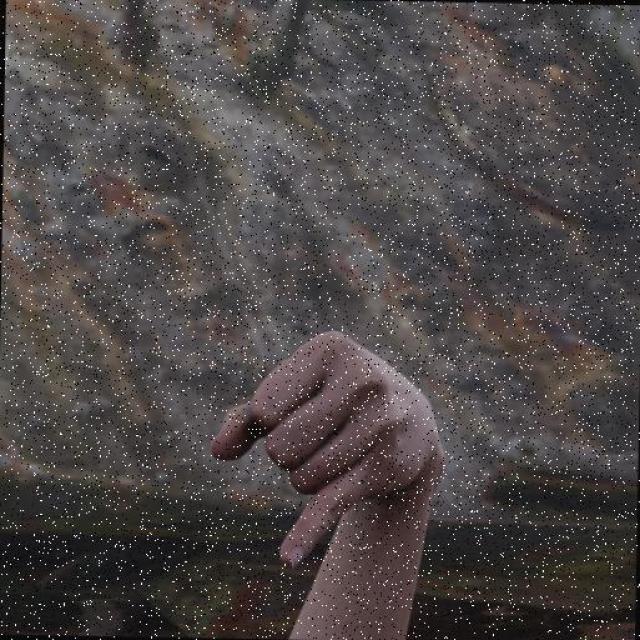J: (206, 325, 449, 571)
